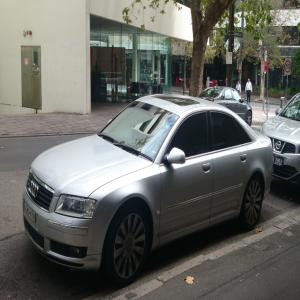Vehicle-registration-plate: (24, 204, 37, 224)
